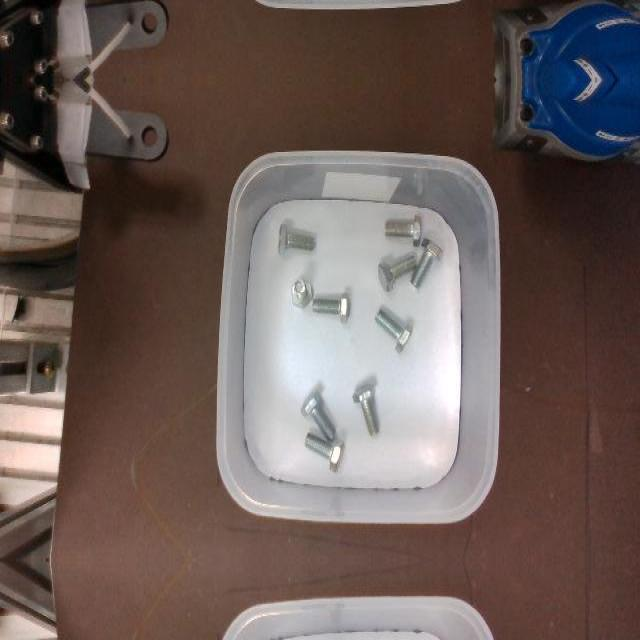screw: (300, 389, 336, 441), (374, 308, 413, 354), (411, 236, 444, 286), (302, 433, 344, 471), (377, 254, 417, 290), (353, 384, 380, 436), (278, 221, 315, 255), (384, 215, 420, 247), (313, 293, 350, 323), (290, 278, 312, 308)
